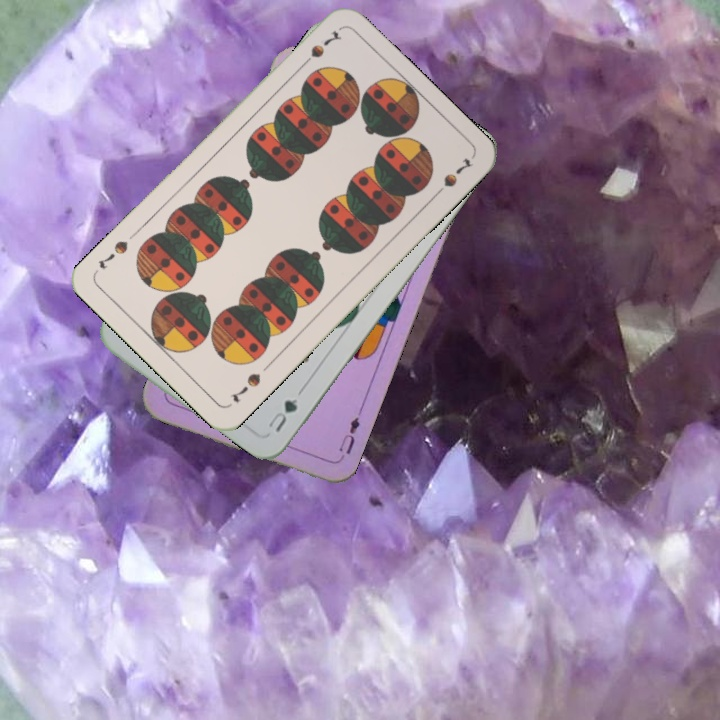EU: (333, 413, 363, 464)
GU: (264, 394, 301, 435)
S7: (295, 27, 344, 71), (228, 369, 264, 405)
